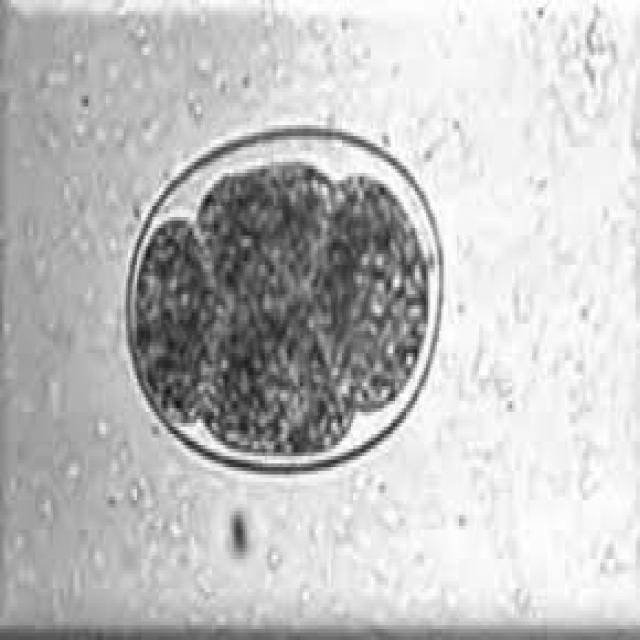Ancylostoma Spp: (115, 110, 452, 497)
